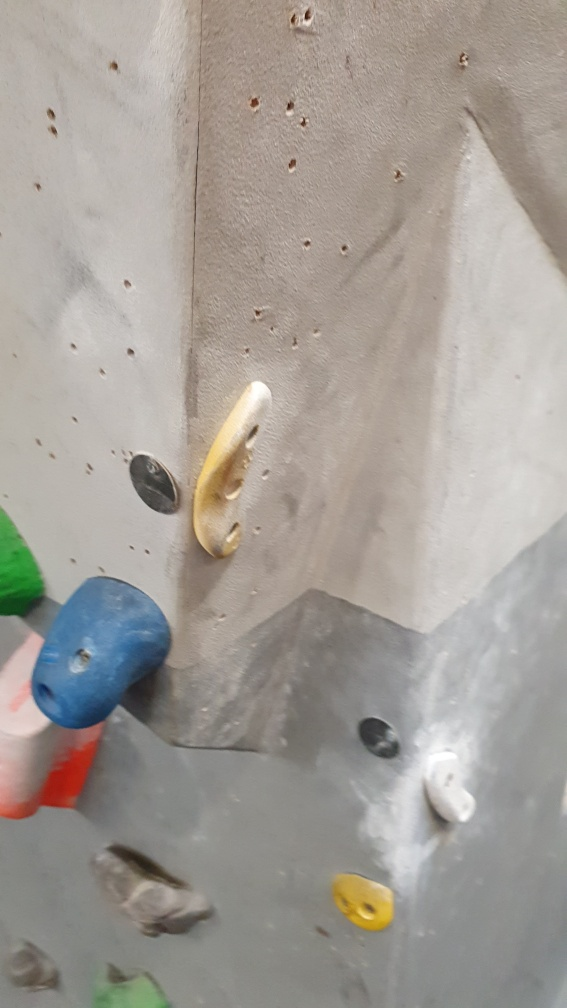Hand Start: (128, 450, 184, 517), (360, 714, 401, 759)
Jug: (96, 838, 217, 942)
Pinch: (1, 628, 111, 824)
Sloper: (36, 576, 175, 734)
